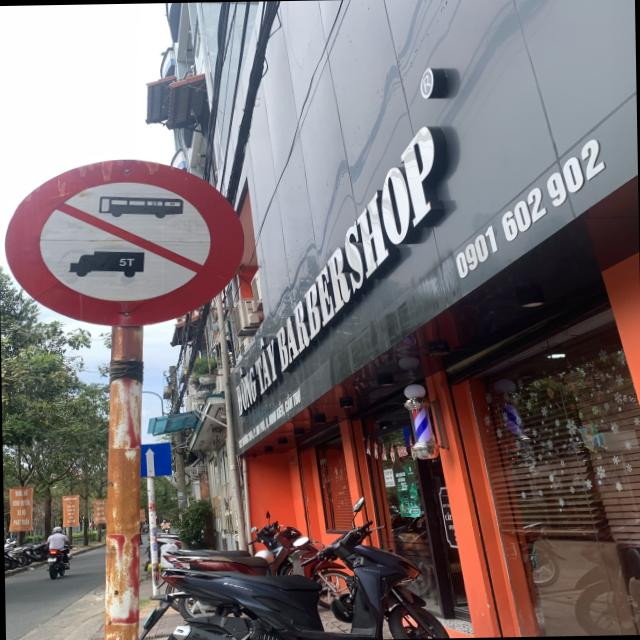Cam_XeTai_XeKhach: (2, 153, 245, 327)
